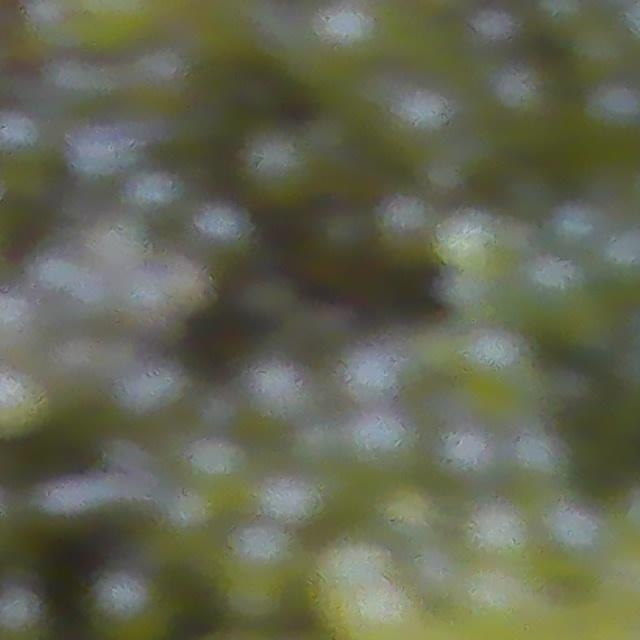SeaGrape: (86, 567, 177, 640), (348, 409, 410, 468)
